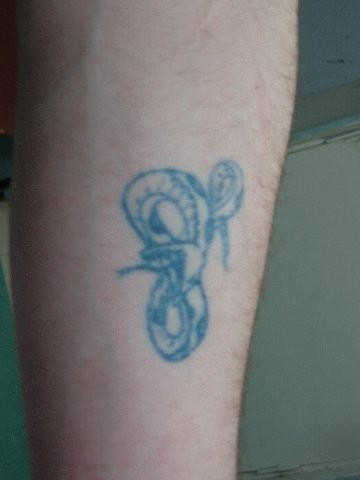tatu7_zmeya: (111, 150, 248, 371)
